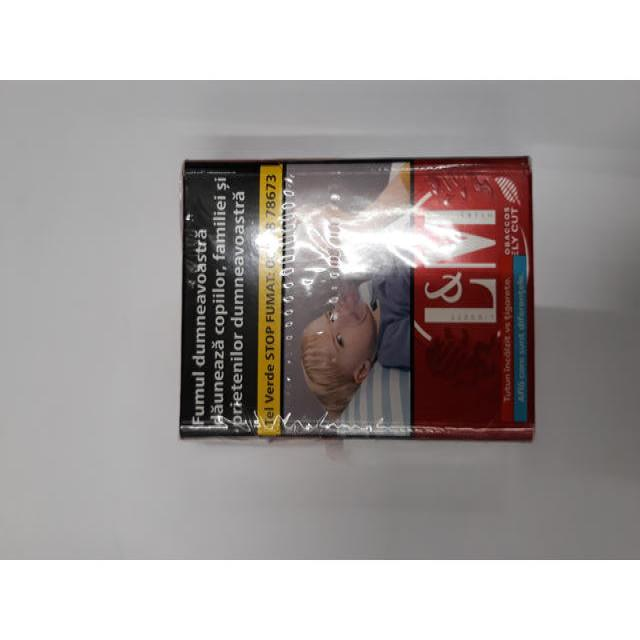lm: (178, 157, 538, 449)
